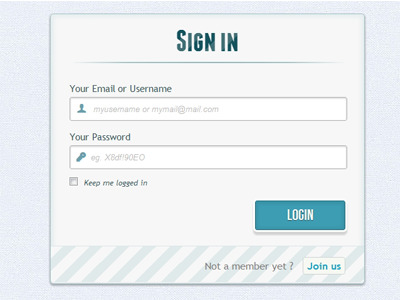_form_: (1, 1, 400, 300)
button: (253, 199, 347, 231), (302, 257, 346, 276)
checkbox: (67, 176, 80, 188)
checkbox_with_label: (65, 174, 149, 189)
field: (68, 144, 349, 170), (68, 97, 348, 122)
field_with_label: (66, 82, 350, 123), (67, 132, 350, 171)
